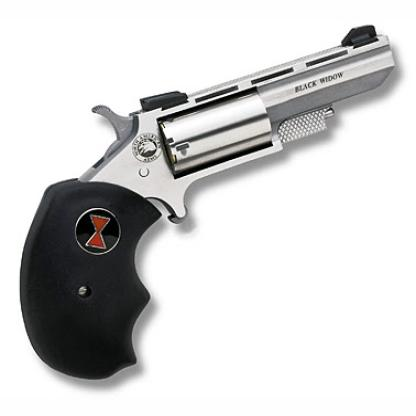handgun: (22, 27, 395, 386)
